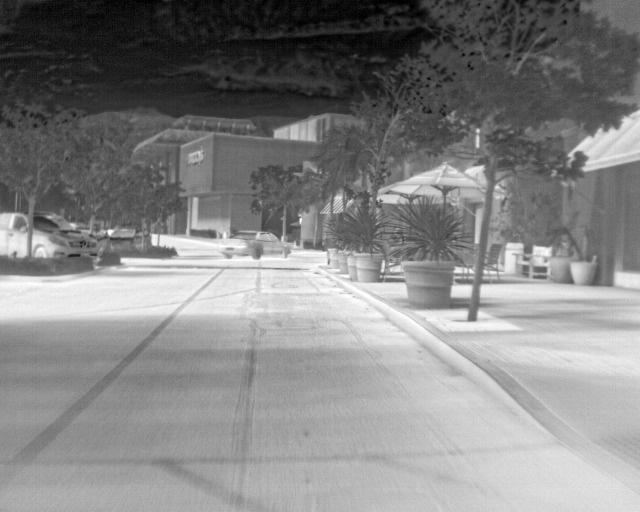car: (32, 211, 100, 258), (218, 229, 292, 259), (0, 210, 30, 259), (109, 227, 148, 249)
